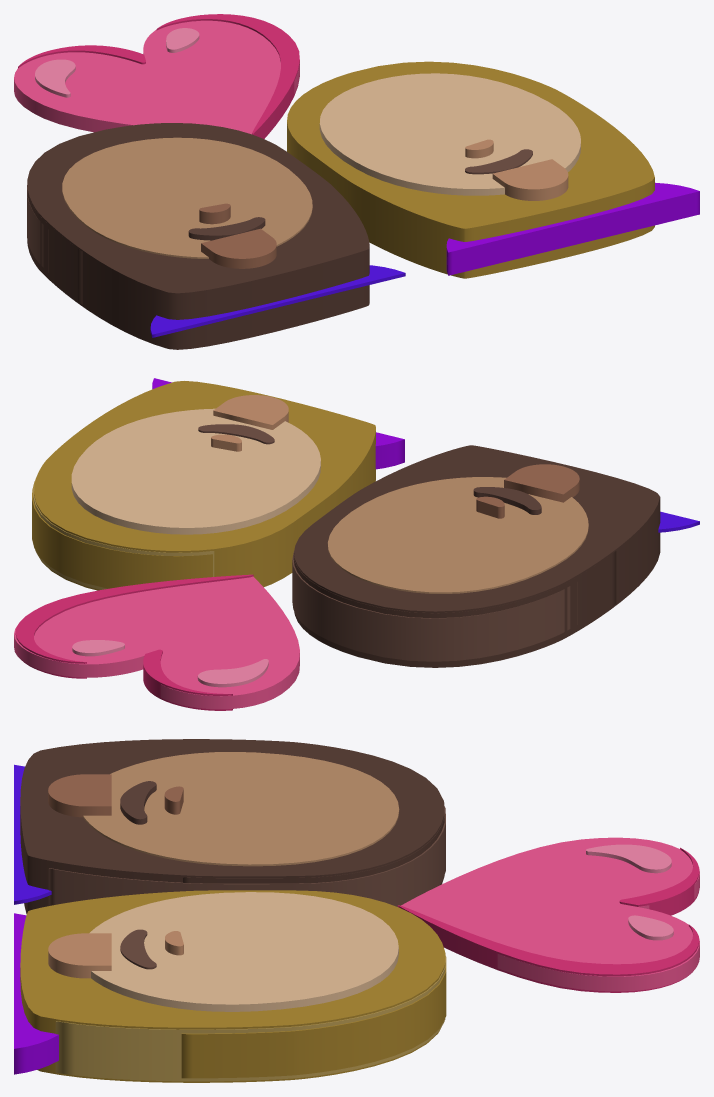
The model's file is emoji_u1f469_1f3fd_200d_2764_200d_1f469_1f3fc.glb.
3 renders of one model, top to bottom at view 1: azimuth 30°, elevation 25°; view 2: azimuth 150°, elevation 25°; view 3: azimuth 270°, elevation 25°, orthographic. The views are drawn at different scales.
Visible parts, largest first — view 1: emoji_u1f469_1f3fd_200d_2764_200d_1f469_1f3fc; view 2: emoji_u1f469_1f3fd_200d_2764_200d_1f469_1f3fc; view 3: emoji_u1f469_1f3fd_200d_2764_200d_1f469_1f3fc.
Boxes of the visible parts, x1=… form: emoji_u1f469_1f3fd_200d_2764_200d_1f469_1f3fc: x1=14, y1=14, x2=699, y2=349; emoji_u1f469_1f3fd_200d_2764_200d_1f469_1f3fc: x1=14, y1=378, x2=699, y2=710; emoji_u1f469_1f3fd_200d_2764_200d_1f469_1f3fc: x1=14, y1=739, x2=699, y2=1082.
Size of the model in its own units: 0.0345 by 0.005 by 0.0338.
